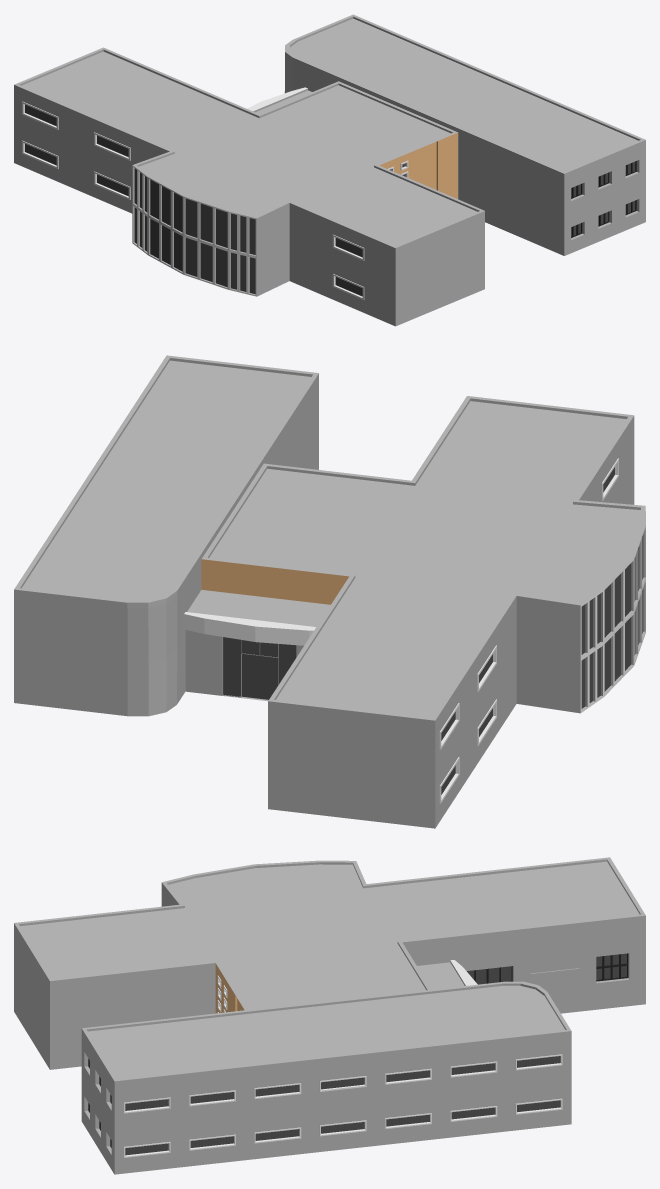
The model's file is Espaceinternet.gltf.
3 views of the same model, one above another, from view 1: azimuth 30°, elevation 25°; view 2: azimuth 150°, elevation 25°; view 3: azimuth 270°, elevation 25° (orthographic). The views are drawn at different scales.
Visible parts, largest first — view 1: cyber; view 2: cyber; view 3: cyber.
Boxes of the visible parts, box(x1,y1,x2,y2) form: cyber: box(14, 14, 645, 326); cyber: box(14, 355, 645, 828); cyber: box(14, 857, 645, 1174).
Bounding box in the file's own units: 67.45 × 12.82 × 78.78.
Materials: 1 (1 with a texture image).
